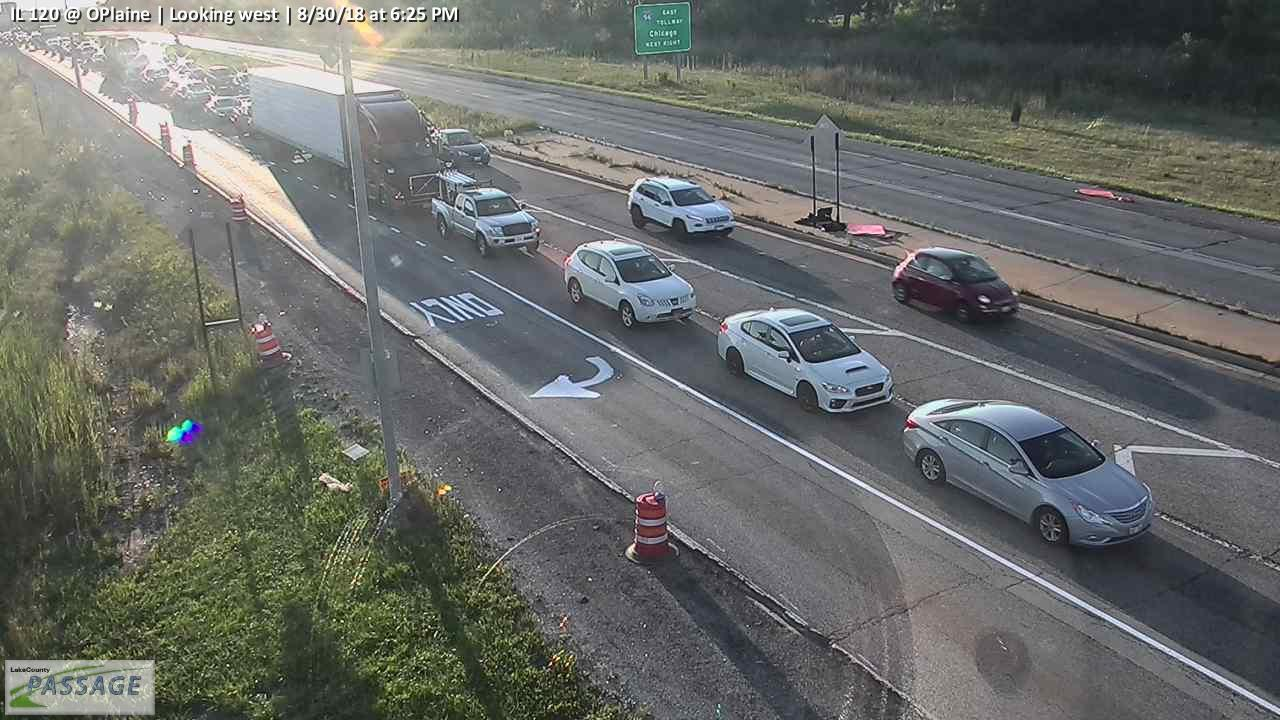SUV: (563, 237, 694, 328), (627, 175, 736, 241), (431, 129, 491, 166)
Sedan: (904, 396, 1153, 546), (717, 305, 895, 413), (893, 246, 1017, 322)
Truck: (247, 65, 459, 212), (431, 168, 539, 257)
